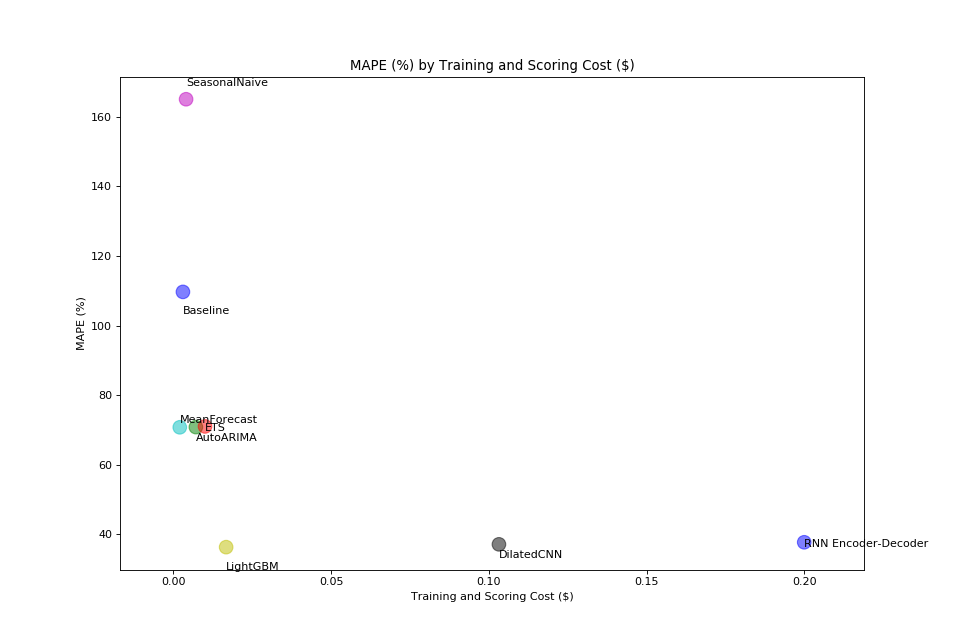

This screenshot's page, from the dashboard's own definition file:
{"tool":"powerbi","page":{"name":"Cost - Retail","canvas":[1280,720],"ordinal":2},"visuals":[{"type":"scatterChart","fields":{"X":["Sum(Table1.Training and Scoring Cost)"],"Y":["Sum(Table1.MAPE (%))"],"Series":["Table1.Submission Name"]},"box":[162.3,22.2,840.9,698.4],"z":1}]}

Visuals, with their boxes on the page's 1280x720 design canvas (x1, y1, x2, y2). These are canvas units, not pixel positions in the 960x640 screenshot, which may show the page scaled, cropped or inside an application window:
scatterChart - Sum(Table1.Training and Scoring Cost) x Sum(Table1.MAPE (%)): 162 22 1003 721
